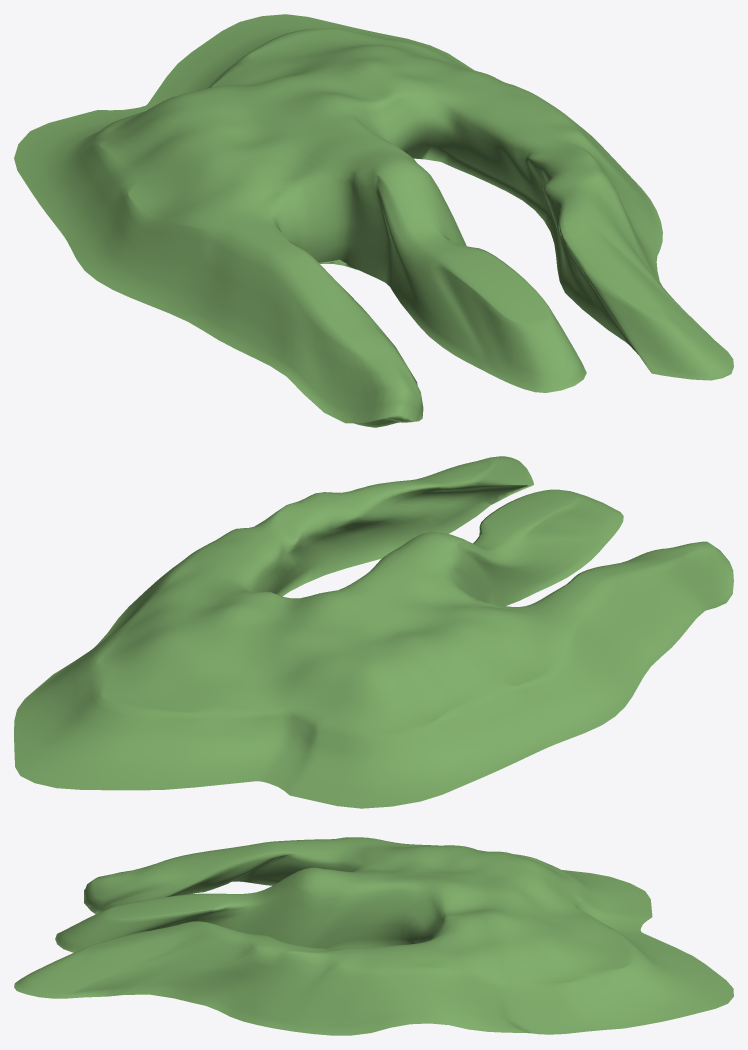
File: Slime11.fbx
3 views of the same model, one above another, from view 1: azimuth 30°, elevation 25°; view 2: azimuth 150°, elevation 25°; view 3: azimuth 270°, elevation 25° (orthographic). The views are drawn at different scales.
Visible parts, largest first — view 1: Slime11; view 2: Slime11; view 3: Slime11.
Part boxes in pixels (x1,y1,x2,y2): Slime11: (14,14,733,427); Slime11: (14,456,733,808); Slime11: (14,837,733,1035).
Size of the model in its own units: 4.23 by 1.03 by 7.04.
